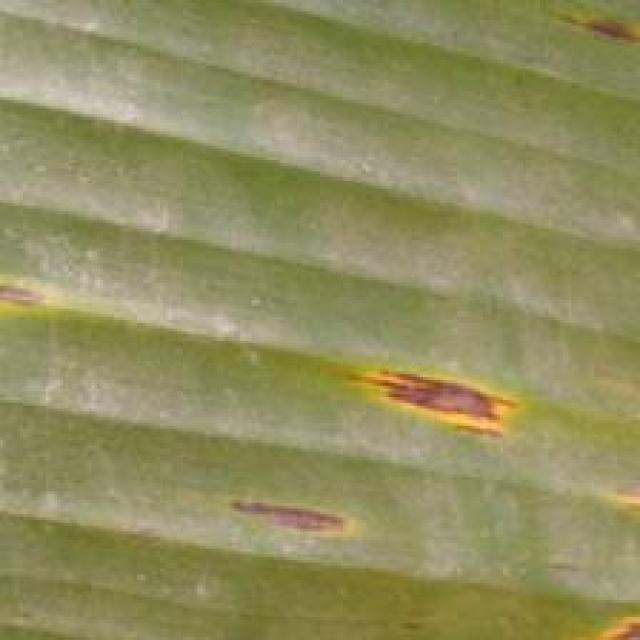Early_leaf_spot: (339, 336, 527, 460), (219, 473, 396, 569), (528, 0, 640, 63), (0, 260, 49, 329), (594, 470, 640, 529), (597, 599, 640, 640)
